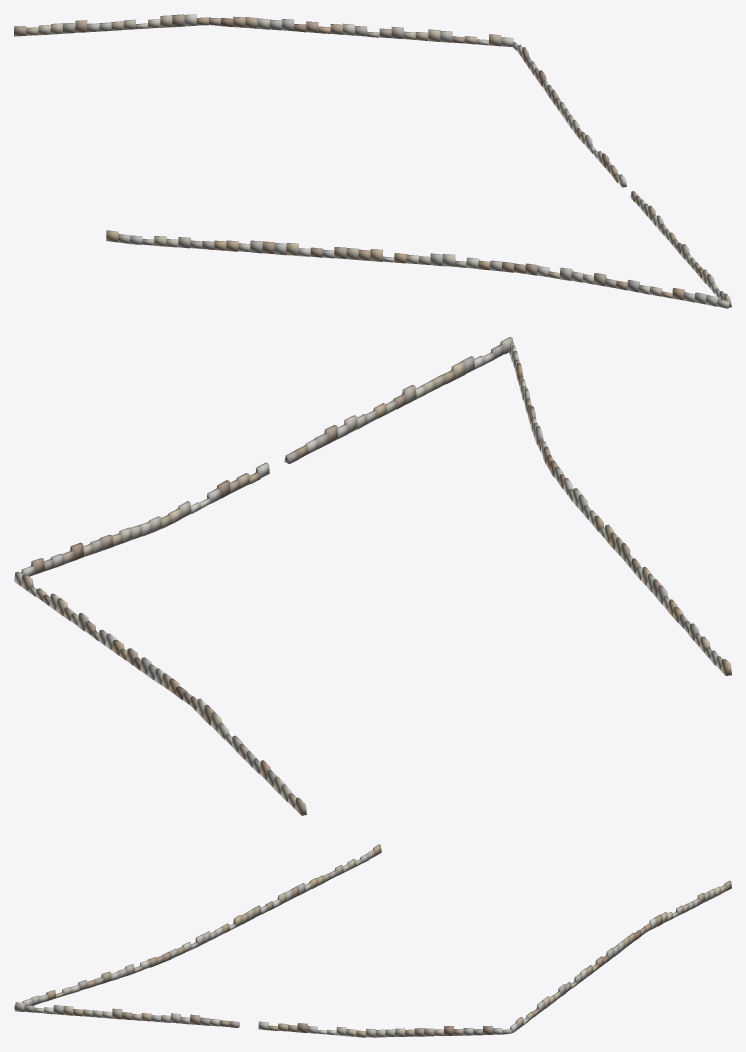
Rendered from farm_0_20_far.glb.
3 views of the same model, one above another, from view 1: azimuth 30°, elevation 25°; view 2: azimuth 150°, elevation 25°; view 3: azimuth 270°, elevation 25° (orthographic). The views are drawn at different scales.
Visible parts, largest first — view 1: geometry_0; view 2: geometry_0; view 3: geometry_0.
Part boxes in pixels (<box>): geometry_0: <box>14,14,731,308</box>; geometry_0: <box>14,337,731,815</box>; geometry_0: <box>14,844,731,1037</box>.
Size of the model in its own units: 74.42 by 6.1 by 116.
